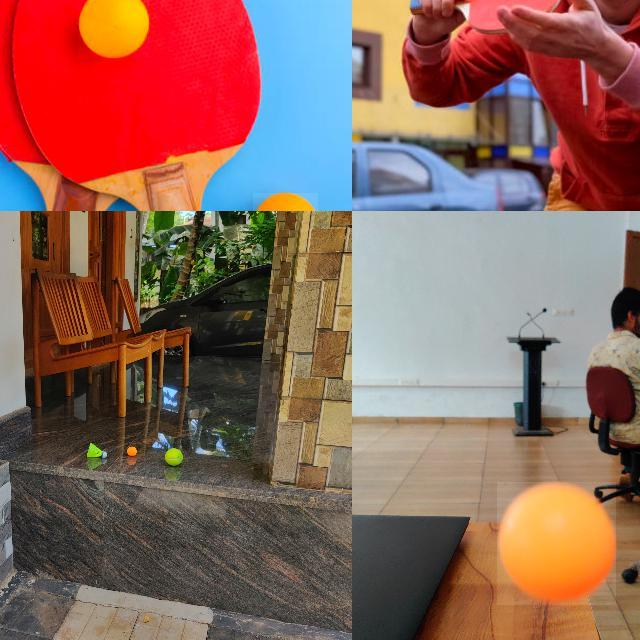ping-pong-ball: (497, 482, 617, 606), (78, 0, 150, 60), (253, 192, 320, 210), (127, 446, 137, 456)
